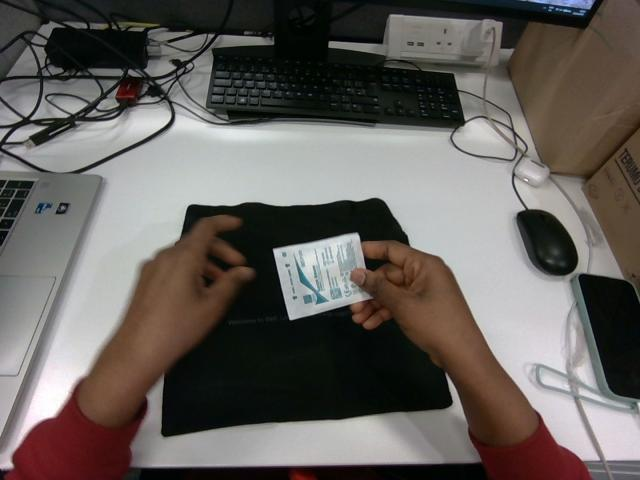gauze: (273, 233, 370, 319)
